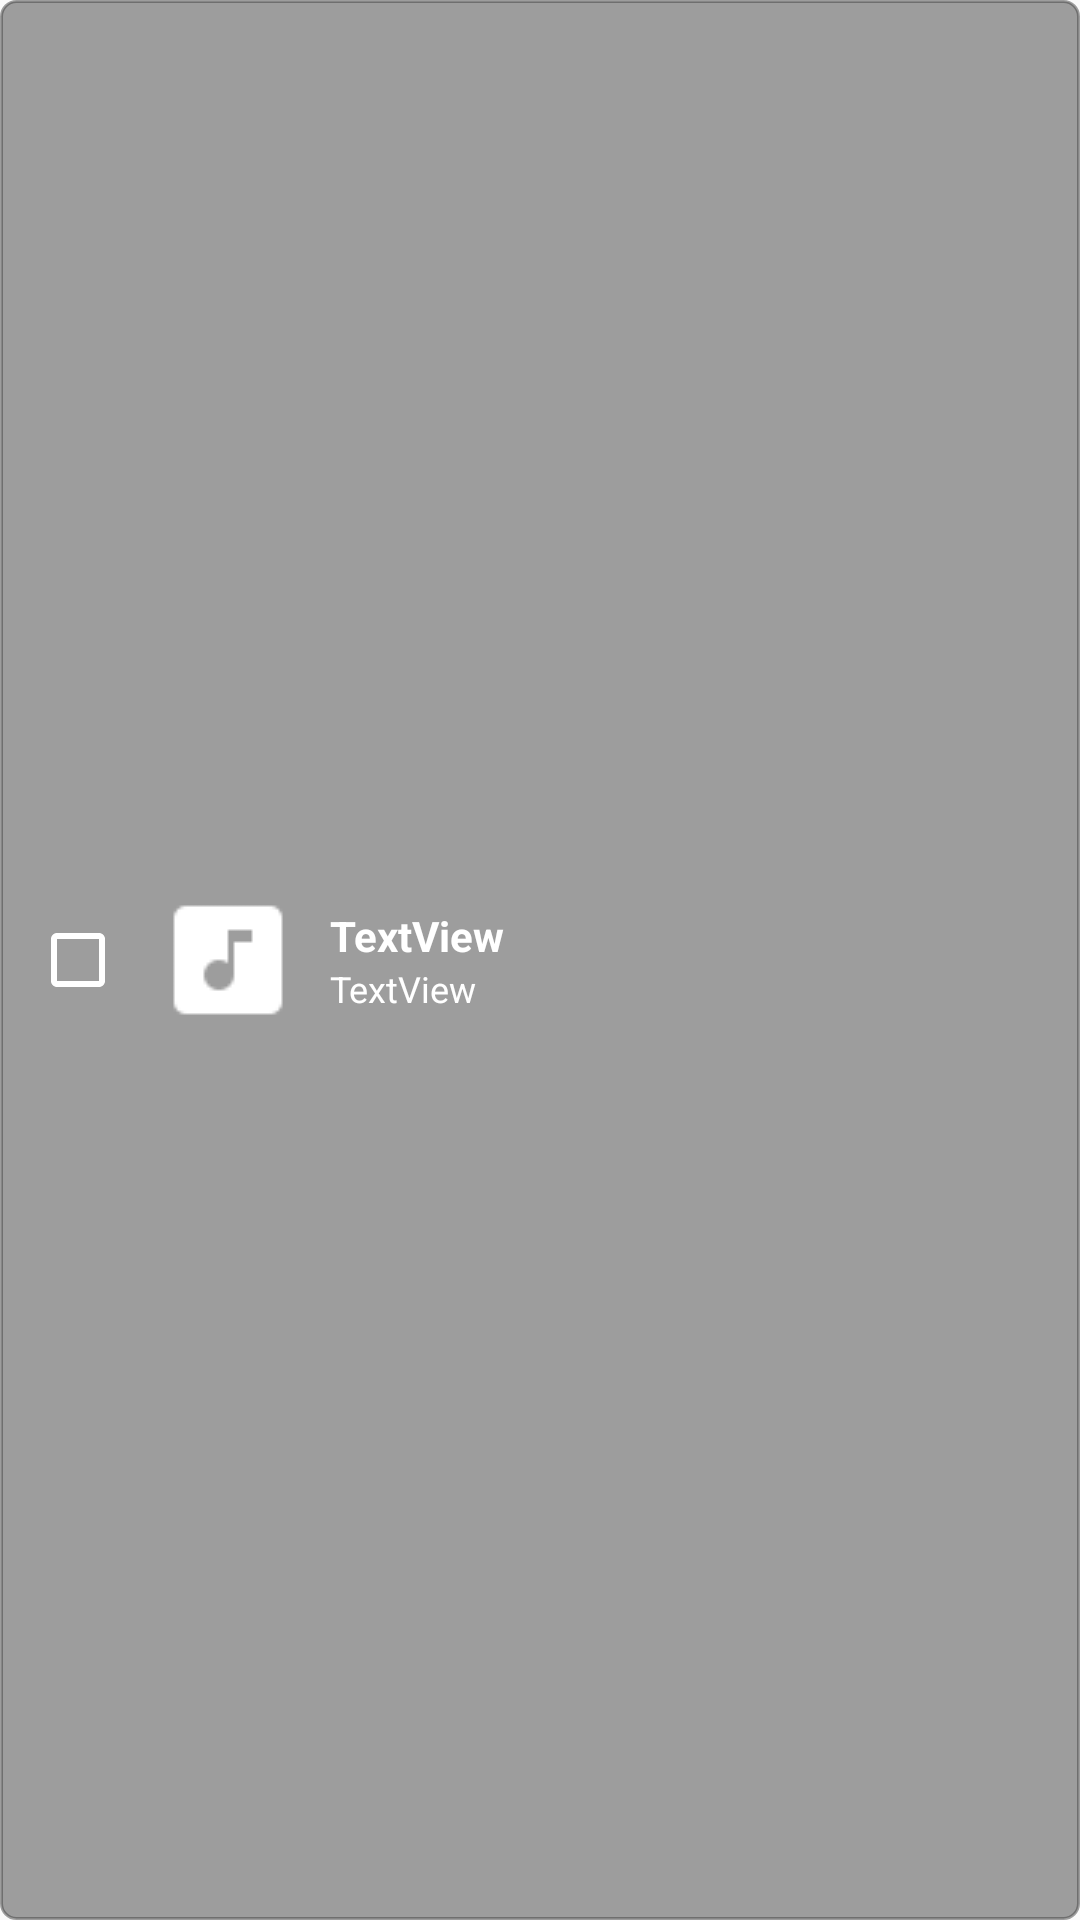

Icon bounding boxes for this 1080 x 1920 phone screenshot, format (x1, y1, x2, y2):
music box: (173, 905, 283, 1015)
